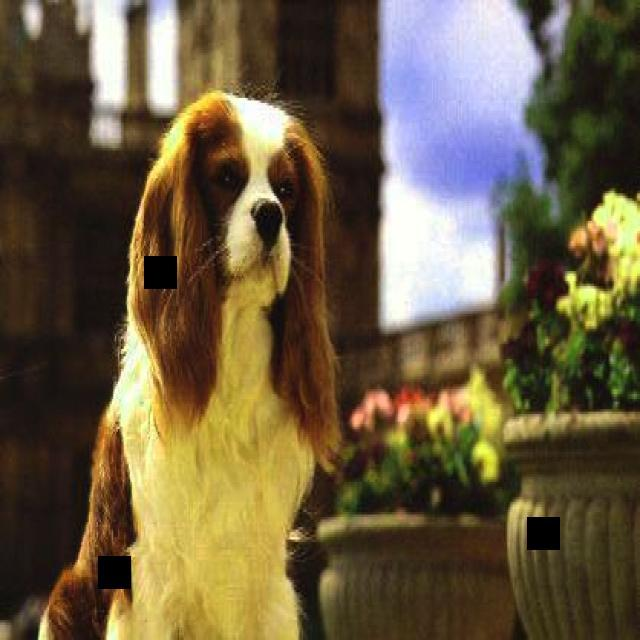adult_dog: (32, 85, 347, 640)
